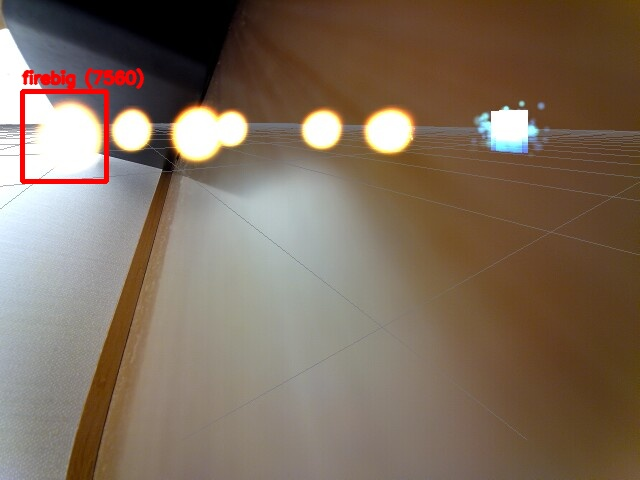firebig: (22, 91, 106, 181)
